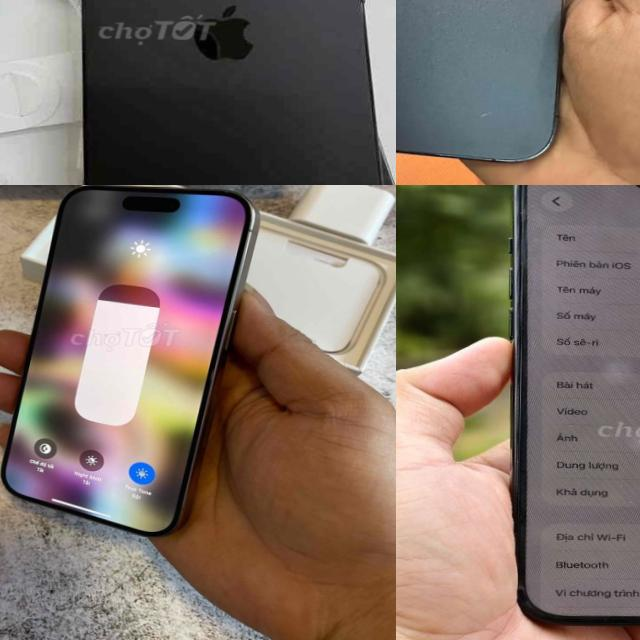gen_14: (396, 0, 600, 175)
gen_15: (0, 185, 267, 534), (487, 185, 640, 640)
gen_17: (46, 0, 396, 185)
scratch: (475, 102, 504, 120)
